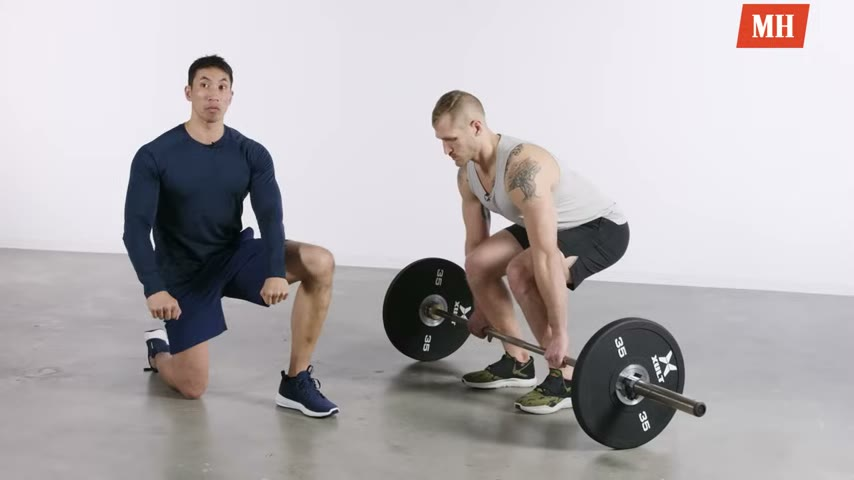barbell_plate_side: (376, 255, 465, 447), (622, 315, 707, 460)
